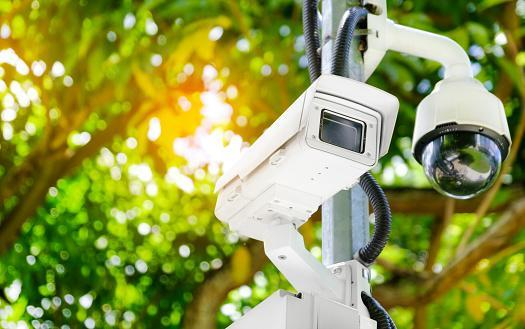camera: (198, 62, 403, 254), (408, 63, 519, 208)
